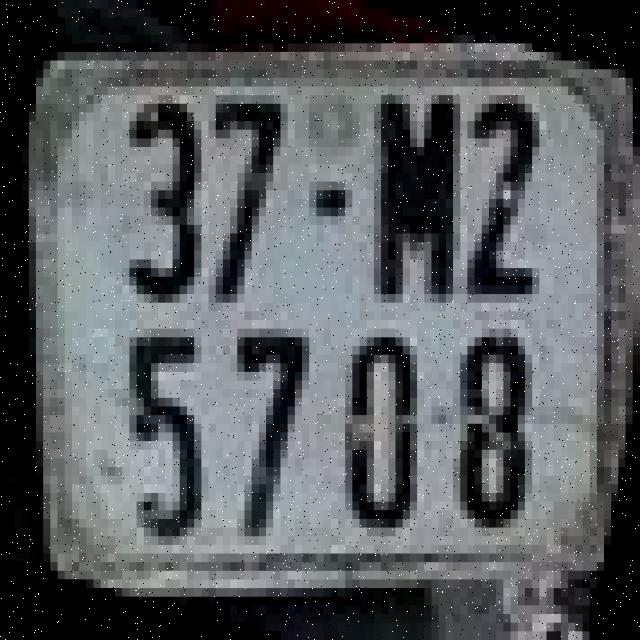0: (342, 333, 421, 532)
2: (464, 91, 543, 298)
3: (122, 95, 202, 303)
5: (122, 329, 209, 536)
7: (230, 324, 309, 540), (208, 95, 288, 303)
8: (456, 328, 528, 528)
M: (370, 86, 457, 302)
